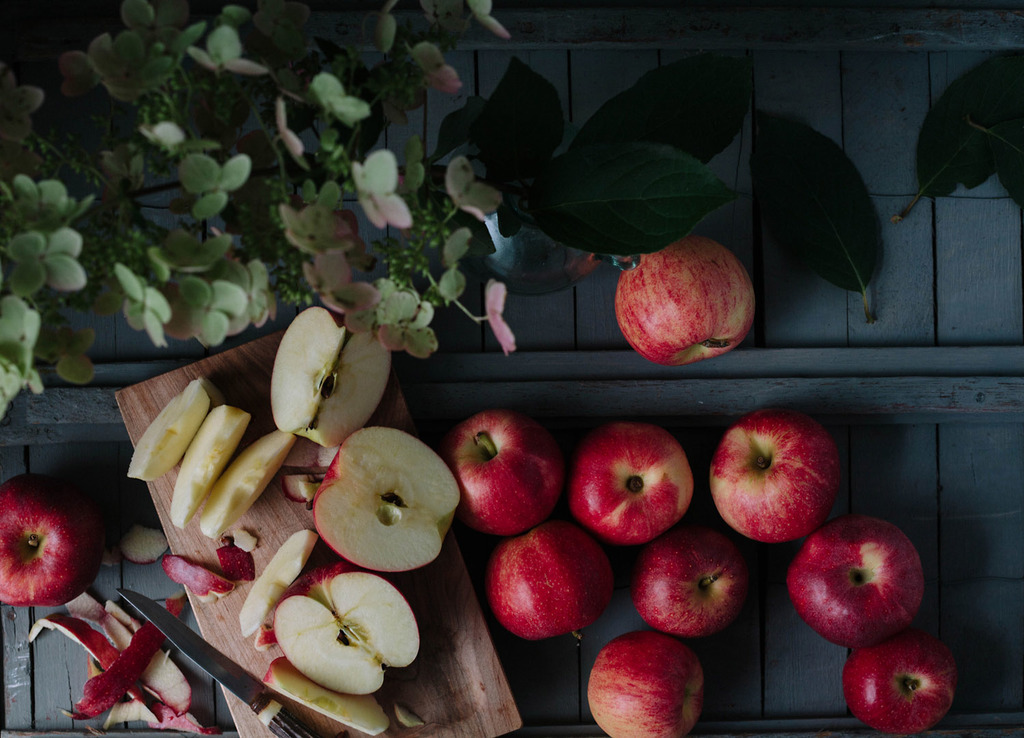Apple: (444, 408, 961, 737), (126, 302, 466, 737), (787, 531, 929, 669), (613, 242, 752, 367), (0, 472, 105, 613)
